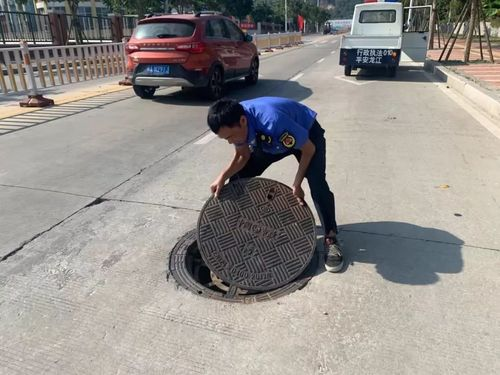uncovered: (162, 172, 324, 306)
